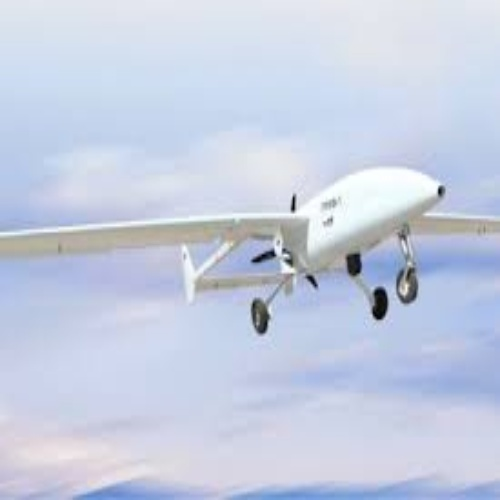uav397: (1, 166, 500, 330)
